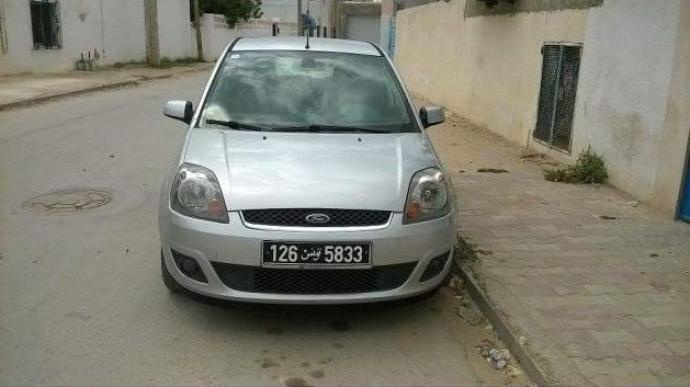LP: (261, 239, 373, 268)
